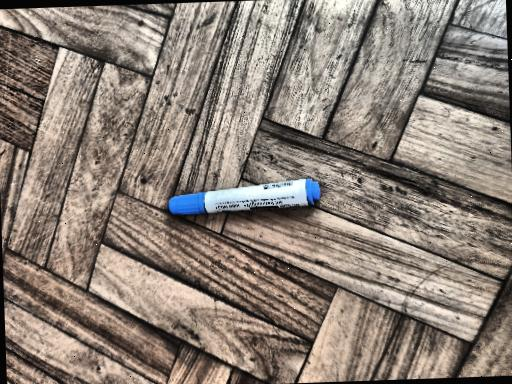marcador azul: (168, 178, 320, 215)
